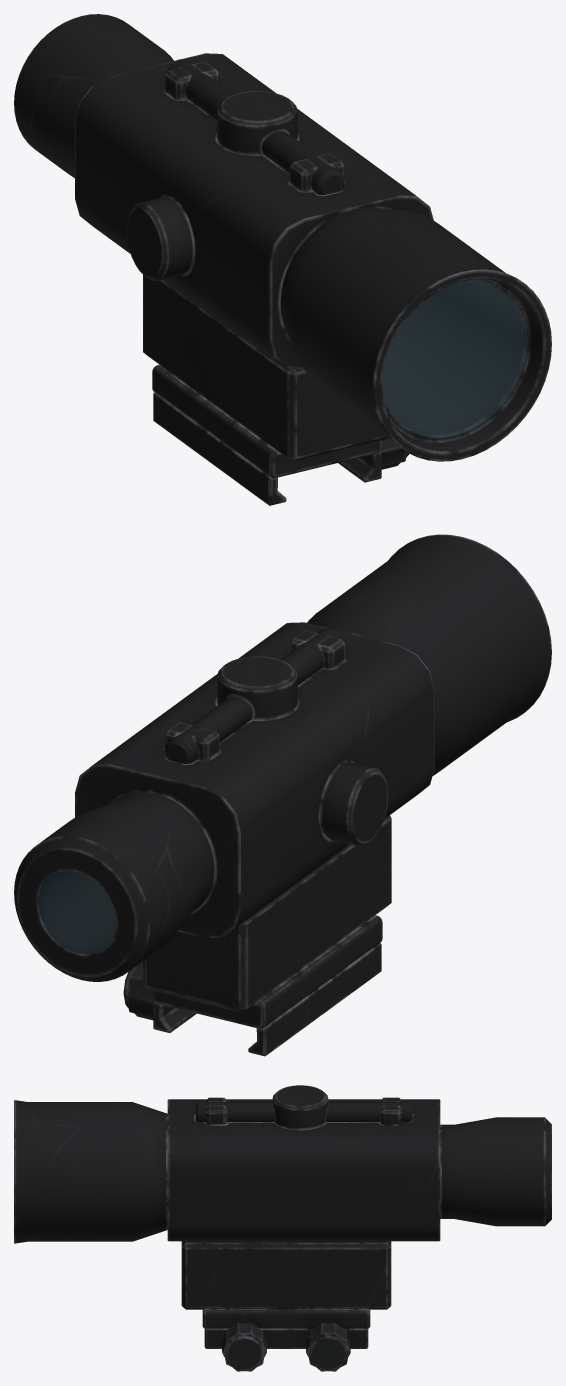
The model's file is Optic_Prism4x.fbx.
The picture shows the model from 3 angles, top to bottom: view 1: azimuth 30°, elevation 25°; view 2: azimuth 150°, elevation 25°; view 3: azimuth 270°, elevation 25°; orthographic projection. The views are drawn at different scales.
Visible parts, largest first — view 1: Body, Lens_Front; view 2: Body, Lens_Rear; view 3: Body.
Part boxes in pixels (x1,y1,x2,y2): Body: (14,14,551,505); Lens_Front: (382,280,527,437); Body: (14,534,551,1056); Lens_Rear: (38,870,116,954); Body: (14,1085,551,1371).
Size of the model in its own units: 0.0492 by 0.077 by 0.154.
